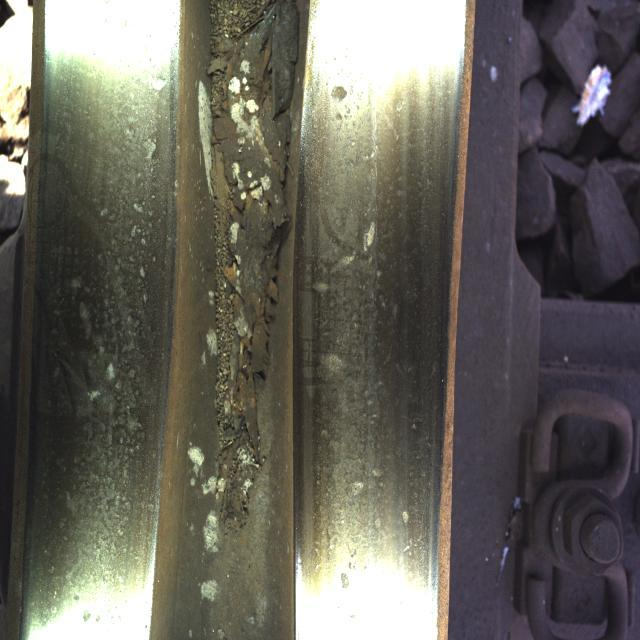crack: (312, 65, 402, 576)
scar: (32, 78, 176, 510)
